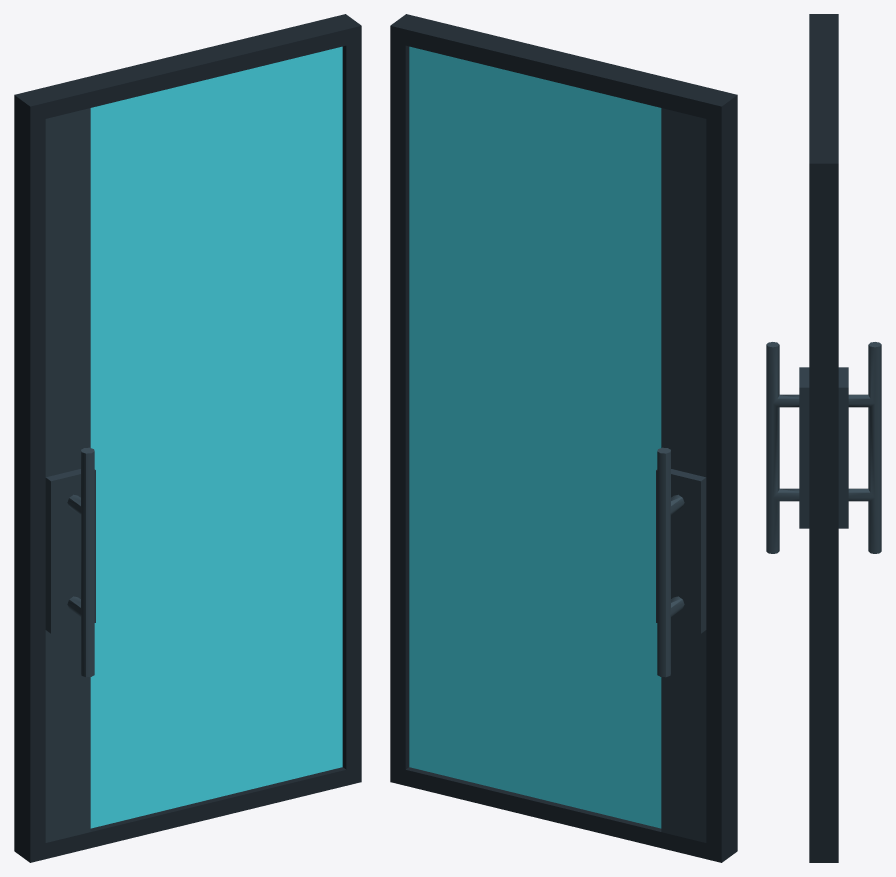
Rendered from SM_Buildings_Hotel_03_Door_R.fbx.
3 views of the same model, side by side, from view 1: azimuth 30°, elevation 25°; view 2: azimuth 150°, elevation 25°; view 3: azimuth 270°, elevation 25° (orthographic). The views are drawn at different scales.
Parts seen in each view (by area): view 1: SM_Buildings_Hotel_03_Door_R; view 2: SM_Buildings_Hotel_03_Door_R; view 3: SM_Buildings_Hotel_03_Door_R.
Boxes of the visible parts, x1=… form: SM_Buildings_Hotel_03_Door_R: x1=14, y1=14, x2=361, y2=862; SM_Buildings_Hotel_03_Door_R: x1=390, y1=14, x2=737, y2=862; SM_Buildings_Hotel_03_Door_R: x1=766, y1=14, x2=881, y2=862.
Size of the model in its own units: 1.07 by 2.34 by 0.35.
